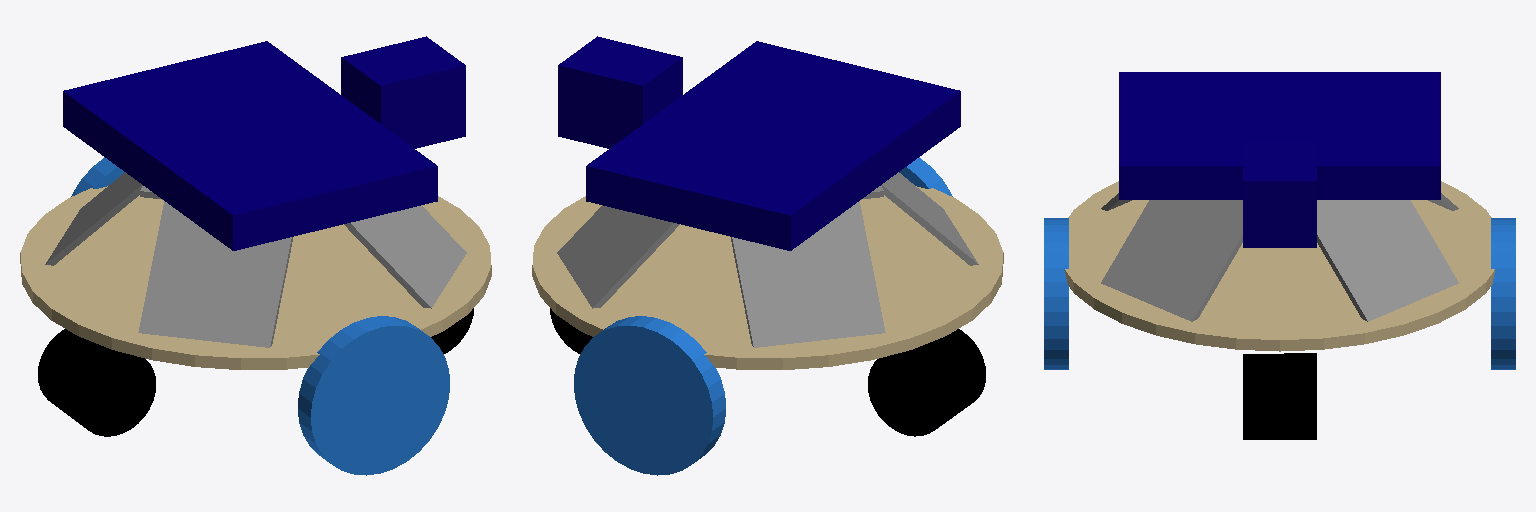
The robot description file, URDF, robot "rosbee-2":
<robot name="rosbee-2">

  <link name="base_link">
    <visual>
      <geometry>
        <cylinder length="0.010" radius="0.180"/>
      </geometry>
      <origin rpy="0 0 0" xyz="0 0 0.099"/>
      <material name="lightwood">
        <color rgba="0.8 0.729 0.568 1"/>
      </material>
    </visual>
  </link>
  
  <link name="lwheel">
    <visual>
      <geometry>
        <cylinder length="0.020" radius="0.0615"/>
      </geometry>
      <origin rpy="0 0 0" xyz="0 0 0"/>
      <material name="lightblue">
        <color rgba="0.1921 0.5058 0.839 1"/>
      </material>
    </visual>
  </link>
  
  <joint name="base_to_lwheel" type="fixed">
    <parent link="base_link"/>
    <child link="lwheel"/>
    <origin xyz="0 0.180 0.0615" rpy="1.5708 0 0"/>
  </joint>
  
  <link name="rwheel">
    <visual>
      <geometry>
        <cylinder length="0.020" radius="0.0615"/>
      </geometry>
      <origin rpy="0 0 0" xyz="0 0 0"/>
      <material name="blue">
        <color rgba="0.1921 0.5058 0.839 1"/>
      </material>
    </visual>
  </link>
  
  <joint name="base_to_rwheel" type="fixed">
    <parent link="base_link"/>
    <child link="rwheel"/>
    <origin xyz="0 -0.180 0.0615" rpy="-1.5708 0 0"/>
  </joint>
      
  <link name="fwheel">
    <visual>
      <geometry>
        <cylinder length="0.060" radius="0.035"/>
      </geometry>
      <origin rpy="1.578 0 0" xyz="0 0 0"/>
      <material name="black">
        <color rgba="0 0 0 1"/>
      </material>
    </visual>
  </link>
  
  <joint name="base_to_fwheel" type="fixed">
    <parent link="base_link"/>
    <child link="fwheel"/>
    <origin xyz="0.14 0 0.035" rpy="0 0 0"/>
  </joint>
  
  <link name="bwheel">
    <visual>
      <geometry>
        <cylinder length="0.060" radius="0.035"/>
      </geometry>
      <origin rpy="1.578 0 0" xyz="0 0 0"/>
      <material name="black">
        <color rgba="0 0 0 1"/>
      </material>
    </visual>
  </link>
  
  <joint name="base_to_bwheel" type="fixed">
    <parent link="base_link"/>
    <child link="bwheel"/>
    <origin xyz="-0.14 0 0.035" rpy="0 0 0"/>
  </joint>
  
  <link name="dome_side1">
    <visual>
      <geometry>
        <box size="0.104 0.120 0.005"/>
      </geometry>
      <origin rpy="0 0 0" xyz="0 0 0"/>
      <material name="grey">
        <color rgba="0.588 0.588 0.588 1"/>
      </material>
    </visual>
  </link>
  
  <link name="dome_side2">
    <visual>
      <geometry>
        <box size="0.104 0.120 0.005"/>
      </geometry>
      <origin rpy="0 0 0" xyz="0 0 0"/>
      <material name="grey">
        <color rgba="0.588 0.588 0.588 1"/>
      </material>
    </visual>
  </link>
  
  <link name="dome_side3">
    <visual>
      <geometry>
        <box size="0.104 0.120 0.005"/>
      </geometry>
      <origin rpy="0 0 0" xyz="0 0 0"/>
      <material name="grey">
        <color rgba="0.588 0.588 0.588 1"/>
      </material>
    </visual>
  </link>
  
  <link name="dome_side4">
    <visual>
      <geometry>
        <box size="0.104 0.120 0.005"/>
      </geometry>
      <origin rpy="0 0 0" xyz="0 0 0"/>
      <material name="grey">
        <color rgba="0.588 0.588 0.588 1"/>
      </material>
    </visual>
  </link>
  
  <link name="dome_top">
    <visual>
      <geometry>
        <box size="0.145 0.145 0.005"/>
      </geometry>
      <origin rpy="0 0 0" xyz="0 0 0"/>
      <material name="grey">
        <color rgba="0.588 0.588 0.588 1"/>
      </material>
    </visual>
  </link>
  
  <joint name="base_to_dome_side1" type="fixed">
    <parent link="base_link"/>
    <child link="dome_side1"/>
    <origin xyz="0.08 0.08 0.14" rpy="0.7853 0 -3.9269"/>
  </joint>
  
  <joint name="base_to_dome_side2" type="fixed">
    <parent link="base_link"/>
    <child link="dome_side2"/>
    <origin xyz="0.08 -0.08 0.14" rpy="0.7853 0 0.7853"/>
  </joint>
  
  <joint name="base_to_dome_side3" type="fixed">
    <parent link="base_link"/>
    <child link="dome_side3"/>
    <origin xyz="-0.08 0.08 0.14" rpy="0.7853 0 3.9269"/>
  </joint>
  
  <joint name="base_to_dome_side4" type="fixed">
    <parent link="base_link"/>
    <child link="dome_side4"/>
    <origin xyz="-0.08 -0.08 0.14" rpy="0.7853 0 -0.7853"/>
  </joint>
  
  <joint name="base_to_dome_top" type="fixed">
    <parent link="base_link"/>
    <child link="dome_top"/>
    <origin xyz="0 0 0.1825" rpy="0 0 0.7853"/>
  </joint>
  
  <link name="laptop">
    <visual>
      <geometry>
        <box size="0.18 0.26 0.03"/>
      </geometry>
      <origin rpy="0 0 0" xyz="0 0 0"/>
      <material name="darkblue">
        <color rgba="0.04313 0 0.5019 1"/>
      </material>
    </visual>
  </link>
  
  <joint name="base_to_laptop" type="fixed">
    <parent link="base_link"/>
    <child link="laptop"/>
    <origin xyz="-0.005 0 0.20" rpy="0 0 0"/>
  </joint>  
  
  
  
  
  
  
  
  
  
  <link name="laser">
    <visual>
      <geometry>
        <box size="0.075 0.060 0.060"/>
      </geometry>
      <origin rpy="0 0 0" xyz="0 0 0"/>
      <material name="darkblue">
        <color rgba="0.0470 0.0039 0.5019 1"/>
      </material>
    </visual>
  </link>
  
  <joint name="base_to_laser" type="fixed">
    <parent link="base_link"/>
    <child link="laser"/>
    <origin xyz="0.13 0 0.21" rpy="0 0 0"/>
  </joint>

  
</robot>

--- Render facts (derived) ---
Views: 3 orthographic renders of the robot side by side, from view 1: azimuth 30°, elevation 25°; view 2: azimuth 150°, elevation 25°; view 3: azimuth 270°, elevation 25°.
Robot: rosbee-2 — 12 links, 11 joints (11 fixed); root link base_link; default pose: every joint at zero.
Links seen in each view (by area): view 1: laptop, base_link, rwheel, dome_side4, laser, bwheel, dome_side2, dome_side3, lwheel, fwheel; view 2: laptop, base_link, lwheel, dome_side3, laser, bwheel, dome_side1, dome_side4, rwheel, fwheel; view 3: laptop, base_link, dome_side1, dome_side2, laser, fwheel, lwheel, rwheel.
Link boxes in pixels (x1,y1,x2,y2): laptop: (63, 41, 437, 250); base_link: (20, 186, 491, 369); rwheel: (298, 316, 449, 475); dome_side4: (138, 201, 292, 347); laser: (341, 36, 465, 148); bwheel: (38, 329, 155, 436); dome_side2: (344, 205, 466, 308); dome_side3: (45, 172, 142, 265); lwheel: (71, 157, 124, 196); fwheel: (431, 308, 473, 353); laptop: (586, 41, 960, 250); base_link: (532, 186, 1003, 369); lwheel: (574, 316, 725, 475); dome_side3: (731, 201, 885, 347); laser: (558, 36, 682, 148); bwheel: (868, 329, 985, 436); dome_side1: (557, 205, 679, 308); dome_side4: (881, 172, 978, 265); rwheel: (899, 157, 952, 196); fwheel: (550, 308, 592, 353); laptop: (1119, 72, 1440, 199); base_link: (1065, 181, 1494, 351); dome_side1: (1317, 200, 1458, 321); dome_side2: (1101, 200, 1242, 321); laser: (1243, 142, 1316, 247); fwheel: (1243, 353, 1316, 439); lwheel: (1491, 218, 1515, 369); rwheel: (1044, 218, 1068, 369).
Bounding box of the posed robot: 0.36 × 0.38 × 0.2402 m (x, y, z).
Geometry: primitives only (box / cylinder / sphere), no mesh files.